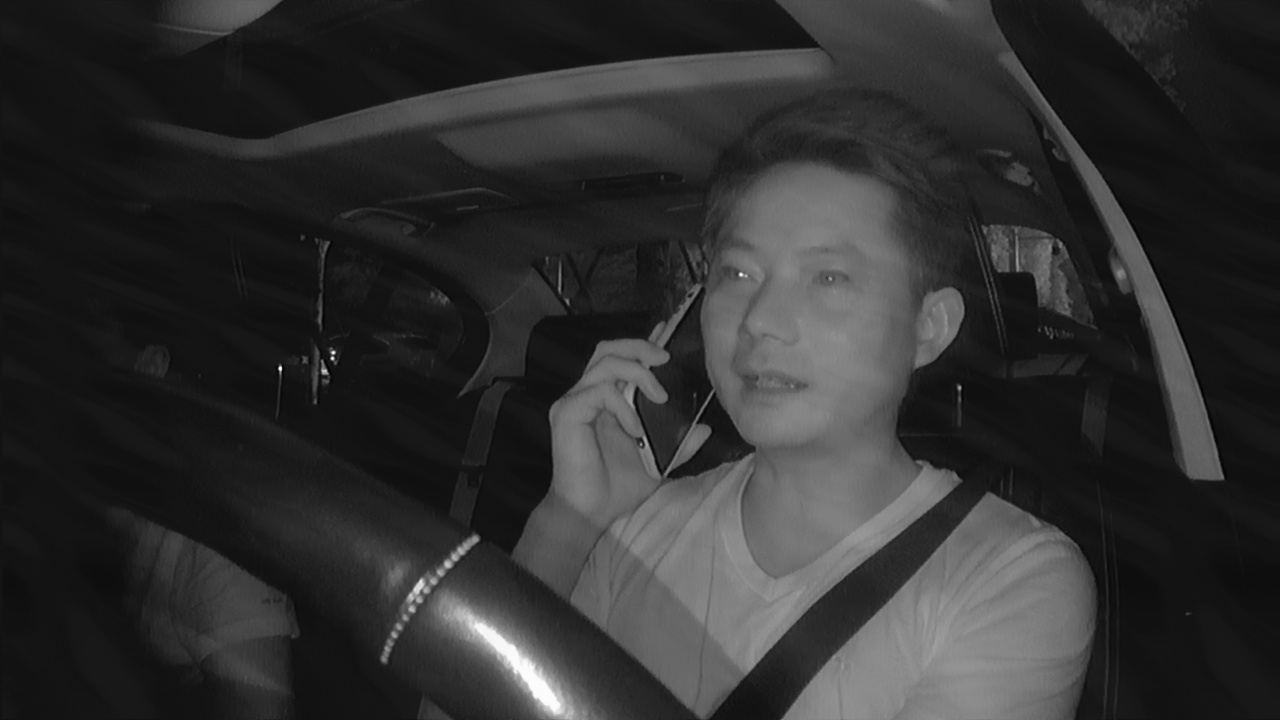hand: (538, 314, 712, 523)
